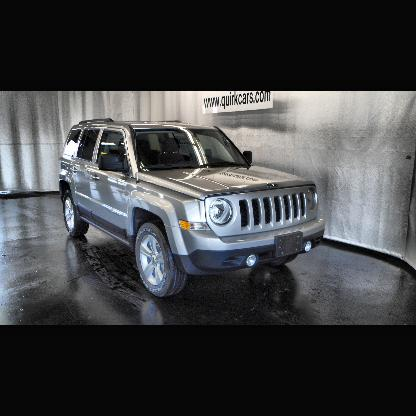Jeep Patriot SUV 2012: (59, 120, 329, 301)
